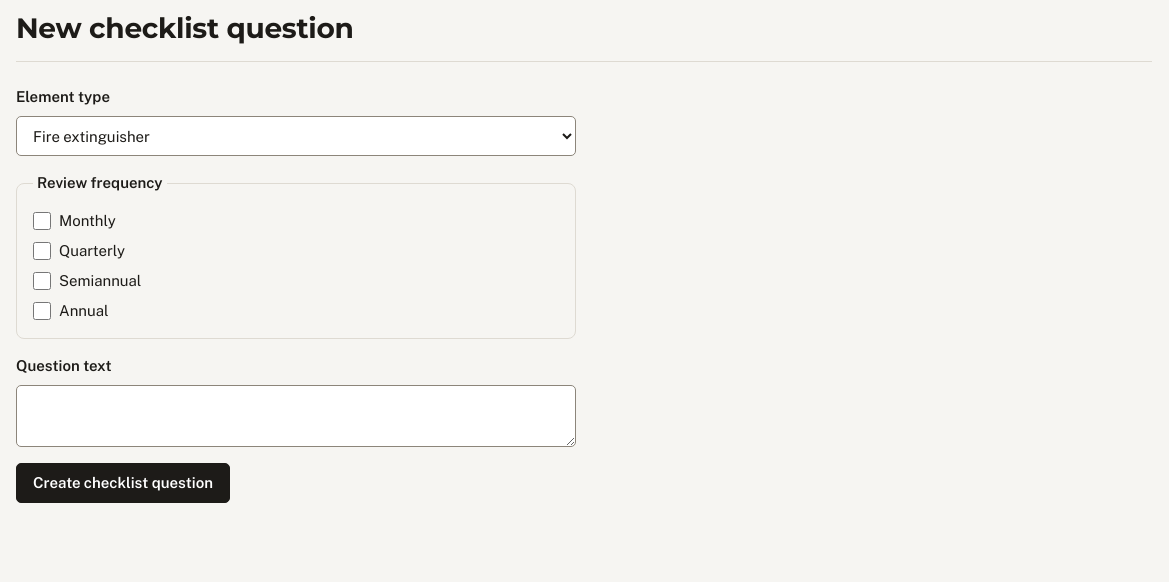
Test: ChecklistQuestionCreatePage › shows a mapped error message (not English server prose) on a server-side failure
Type "Check the pressure gauge" into the text box with test id "checklist-question-create-text". click: {"x": 296, "y": 416}
box: x1=16 y1=385 x2=576 y2=447
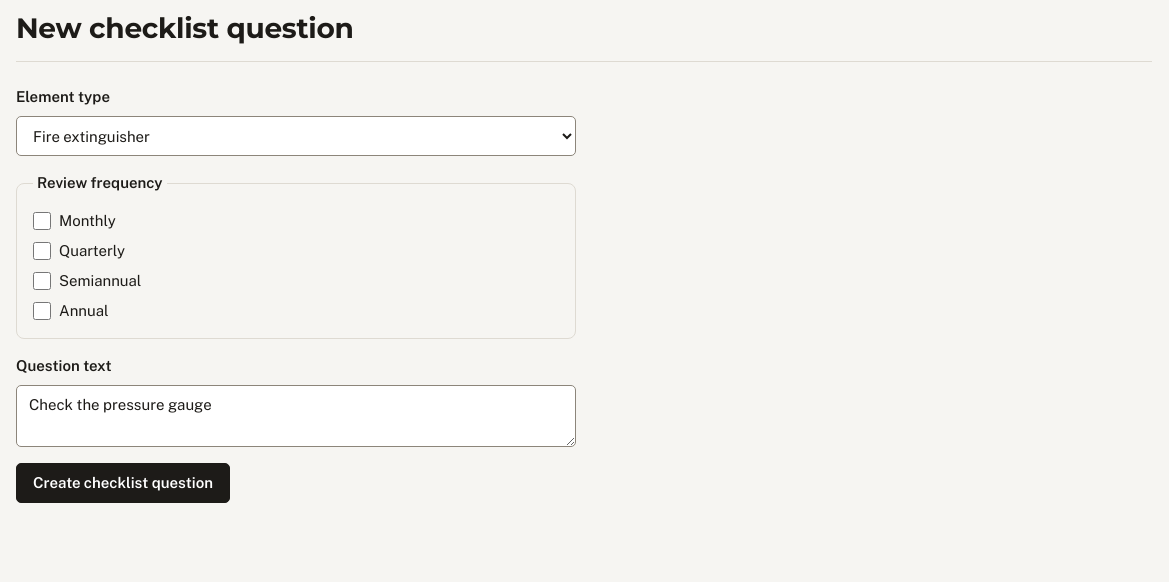
Click the checkbox with test id "checklist-question-create-frequency-QUARTERLY". click: {"x": 42, "y": 251}
box: x1=33 y1=242 x2=51 y2=260
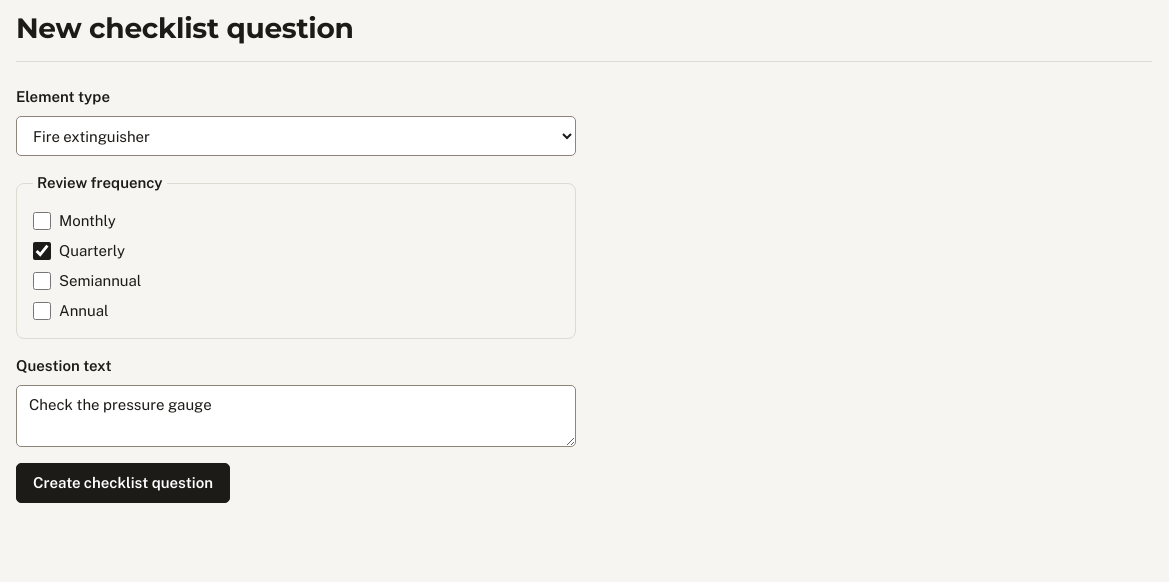
Click the button with test id "checklist-question-create-submit". click: {"x": 123, "y": 483}
box: x1=16 y1=463 x2=230 y2=503
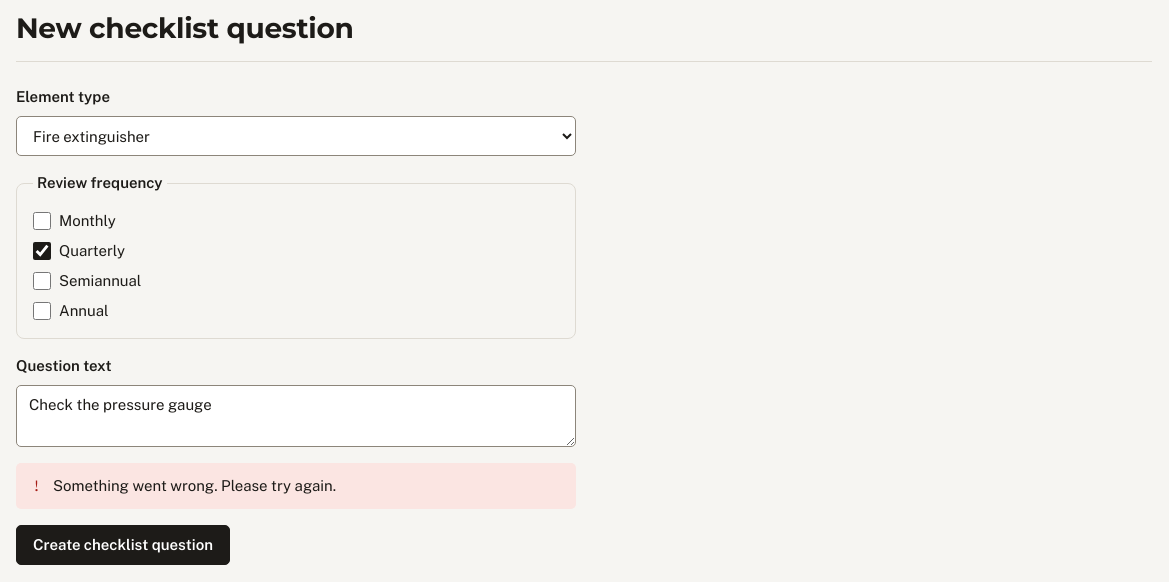
Now the message "! Something went wrong. Please try again." is shown, box x1=16 y1=463 x2=576 y2=509
